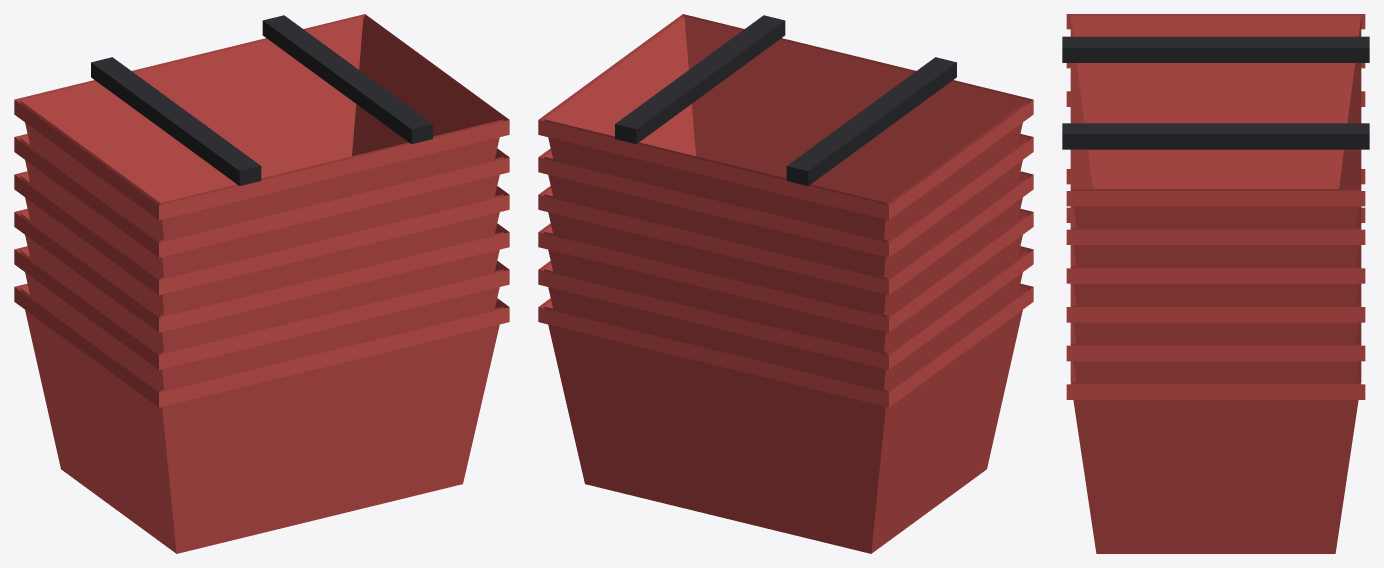
Rendered from Prop_BasketStack.fbx.
3 renders of one model, left to right at view 1: azimuth 30°, elevation 25°; view 2: azimuth 150°, elevation 25°; view 3: azimuth 270°, elevation 25°, orthographic. The views are drawn at different scales.
Visible parts, largest first — view 1: Prop_BasketStack; view 2: Prop_BasketStack; view 3: Prop_BasketStack.
Part boxes in pixels (left/top/right/bottom): Prop_BasketStack: left=14, top=14, right=509, bottom=553; Prop_BasketStack: left=538, top=14, right=1033, bottom=553; Prop_BasketStack: left=1062, top=14, right=1369, bottom=553.
Size of the model in its own units: 0.49 by 0.512 by 0.36.
1 material, 1 textured.
